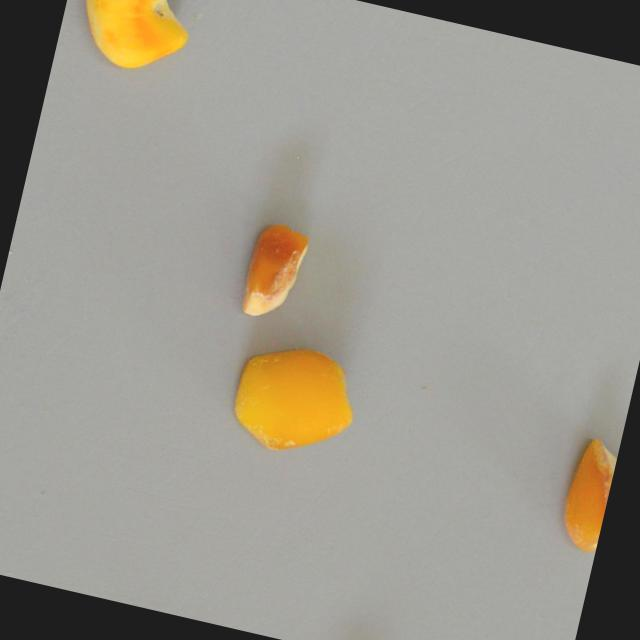dañado: (212, 326, 374, 475), (59, 0, 202, 85), (223, 212, 317, 338), (541, 431, 620, 559)
